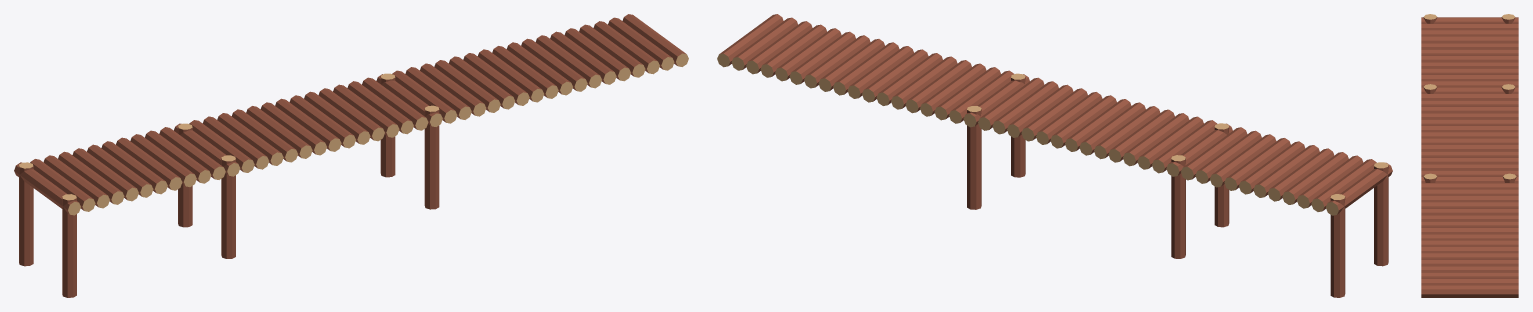
File: Dock.fbx
3 renders of one model, left to right at view 1: azimuth 30°, elevation 25°; view 2: azimuth 150°, elevation 25°; view 3: azimuth 270°, elevation 25°, orthographic. The views are drawn at different scales.
Visible parts, largest first — view 1: Cylinder.002, Cylinder.007, Cylinder.003, Cylinder.001, Cylinder.005, Cylinder.006, Cylinder.004; view 2: Cylinder.002, Cylinder.001, Cylinder.003, Cylinder.004, Cylinder.006, Cylinder.005, Cylinder.007; view 3: Cylinder.002, Cylinder.007, Cylinder.001, Cylinder.003, Cylinder.004, Cylinder.005, Cylinder.006.
Part boxes in pixels (left/top/right/bottom): Cylinder.002: left=14, top=14, right=688, bottom=215; Cylinder.007: left=424, top=105, right=439, bottom=209; Cylinder.003: left=62, top=194, right=76, bottom=297; Cylinder.001: left=19, top=162, right=33, bottom=266; Cylinder.005: left=221, top=155, right=235, bottom=258; Cylinder.006: left=380, top=73, right=395, bottom=177; Cylinder.004: left=178, top=123, right=192, bottom=227; Cylinder.002: left=717, top=14, right=1392, bottom=215; Cylinder.001: left=1330, top=194, right=1345, bottom=297; Cylinder.003: left=1374, top=162, right=1388, bottom=266; Cylinder.004: left=1171, top=155, right=1185, bottom=258; Cylinder.006: left=967, top=106, right=981, bottom=209; Cylinder.005: left=1214, top=123, right=1229, bottom=227; Cylinder.007: left=1011, top=73, right=1025, bottom=177; Cylinder.002: left=1421, top=17, right=1518, bottom=297; Cylinder.007: left=1423, top=173, right=1437, bottom=182; Cylinder.001: left=1501, top=14, right=1515, bottom=23; Cylinder.003: left=1423, top=14, right=1437, bottom=23; Cylinder.004: left=1501, top=84, right=1515, bottom=93; Cylinder.005: left=1423, top=84, right=1437, bottom=93; Cylinder.006: left=1503, top=173, right=1516, bottom=182.
Size of the model in its own units: 1264 by 190 by 190.
